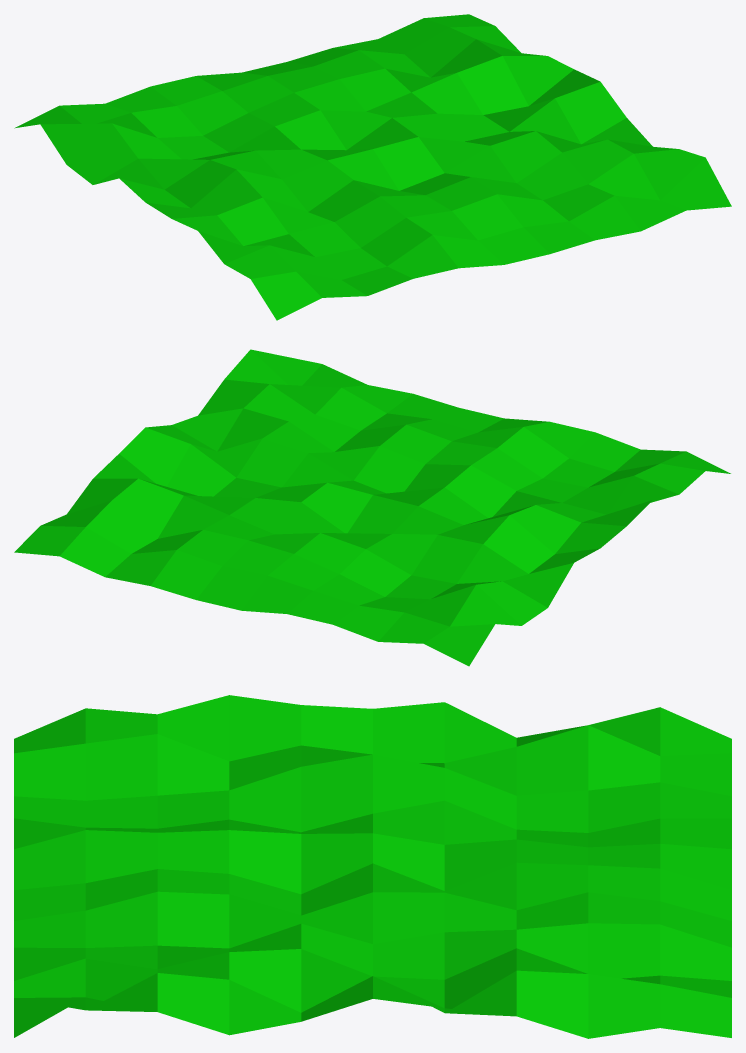
Rendered from terrain1.fbx.
3 views of the same model, one above another, from view 1: azimuth 30°, elevation 25°; view 2: azimuth 150°, elevation 25°; view 3: azimuth 270°, elevation 25° (orthographic). The views are drawn at different scales.
Visible parts, largest first — view 1: Plane.001; view 2: Plane.001; view 3: Plane.001.
Part boxes in pixels (box(x1,y1,x2,y2)): Plane.001: box(14, 14, 731, 320); Plane.001: box(14, 349, 730, 666); Plane.001: box(14, 695, 731, 1038).
Size of the model in its own units: 2000 by 150 by 2000.
